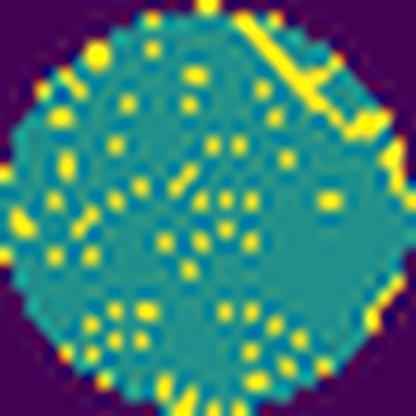Scratch: (236, 14, 354, 146)
